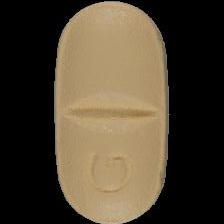24236-885: (0, 0, 224, 224)
